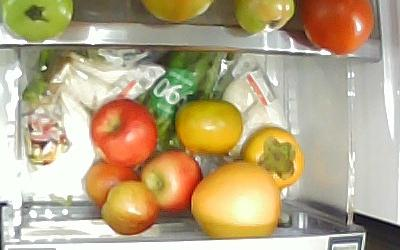apple: (89, 99, 158, 169), (141, 149, 204, 216)
grapefruit: (191, 159, 282, 238)
persimmon: (242, 126, 306, 191), (174, 99, 244, 158)
prune: (100, 180, 160, 235), (84, 160, 141, 210)
